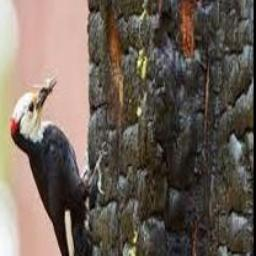Woodpecker: (12, 73, 107, 256)
